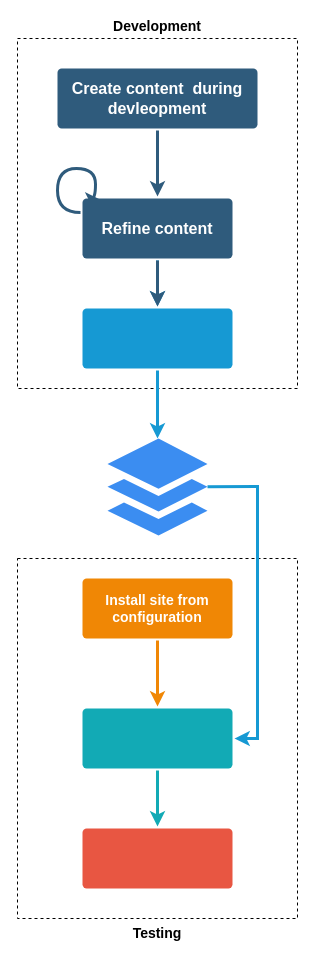
Some shapes in this 315 by 960 pixel diagram are drawn without their labels. The shapes that lost their labels are listed below. From the top down, each one's box as (x1, y1, x2, y2) in pixels, then its label:
(82, 308, 232, 368): Export content to code
(82, 708, 232, 768): Import content in test env
(82, 828, 232, 888): Run tests!
